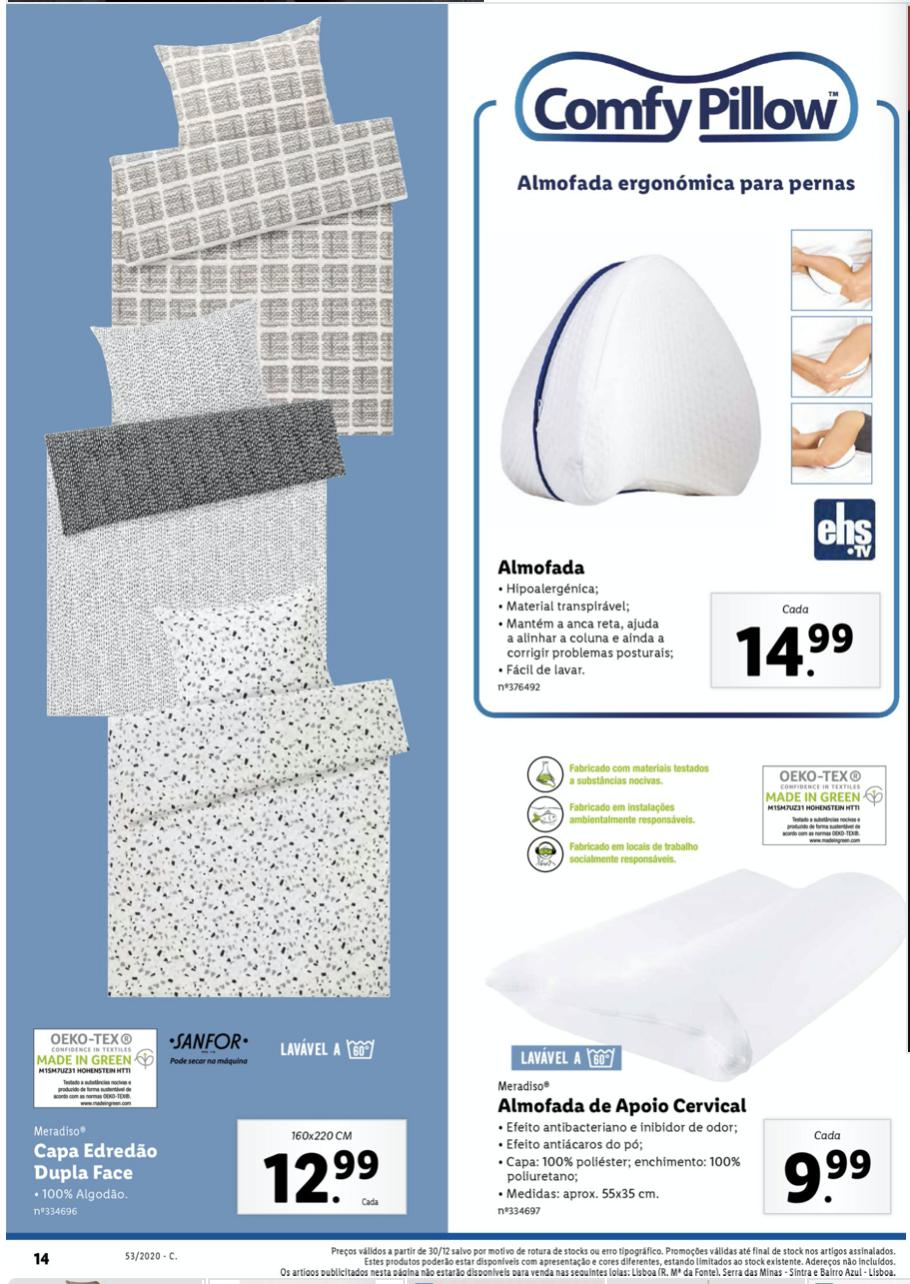name: (494, 1092, 754, 1119), (31, 1139, 162, 1187), (496, 555, 589, 582)
price: (732, 619, 861, 689), (259, 1146, 385, 1212), (783, 1146, 877, 1212)
product: (23, 14, 423, 1220), (481, 158, 880, 695), (469, 739, 899, 1224)
